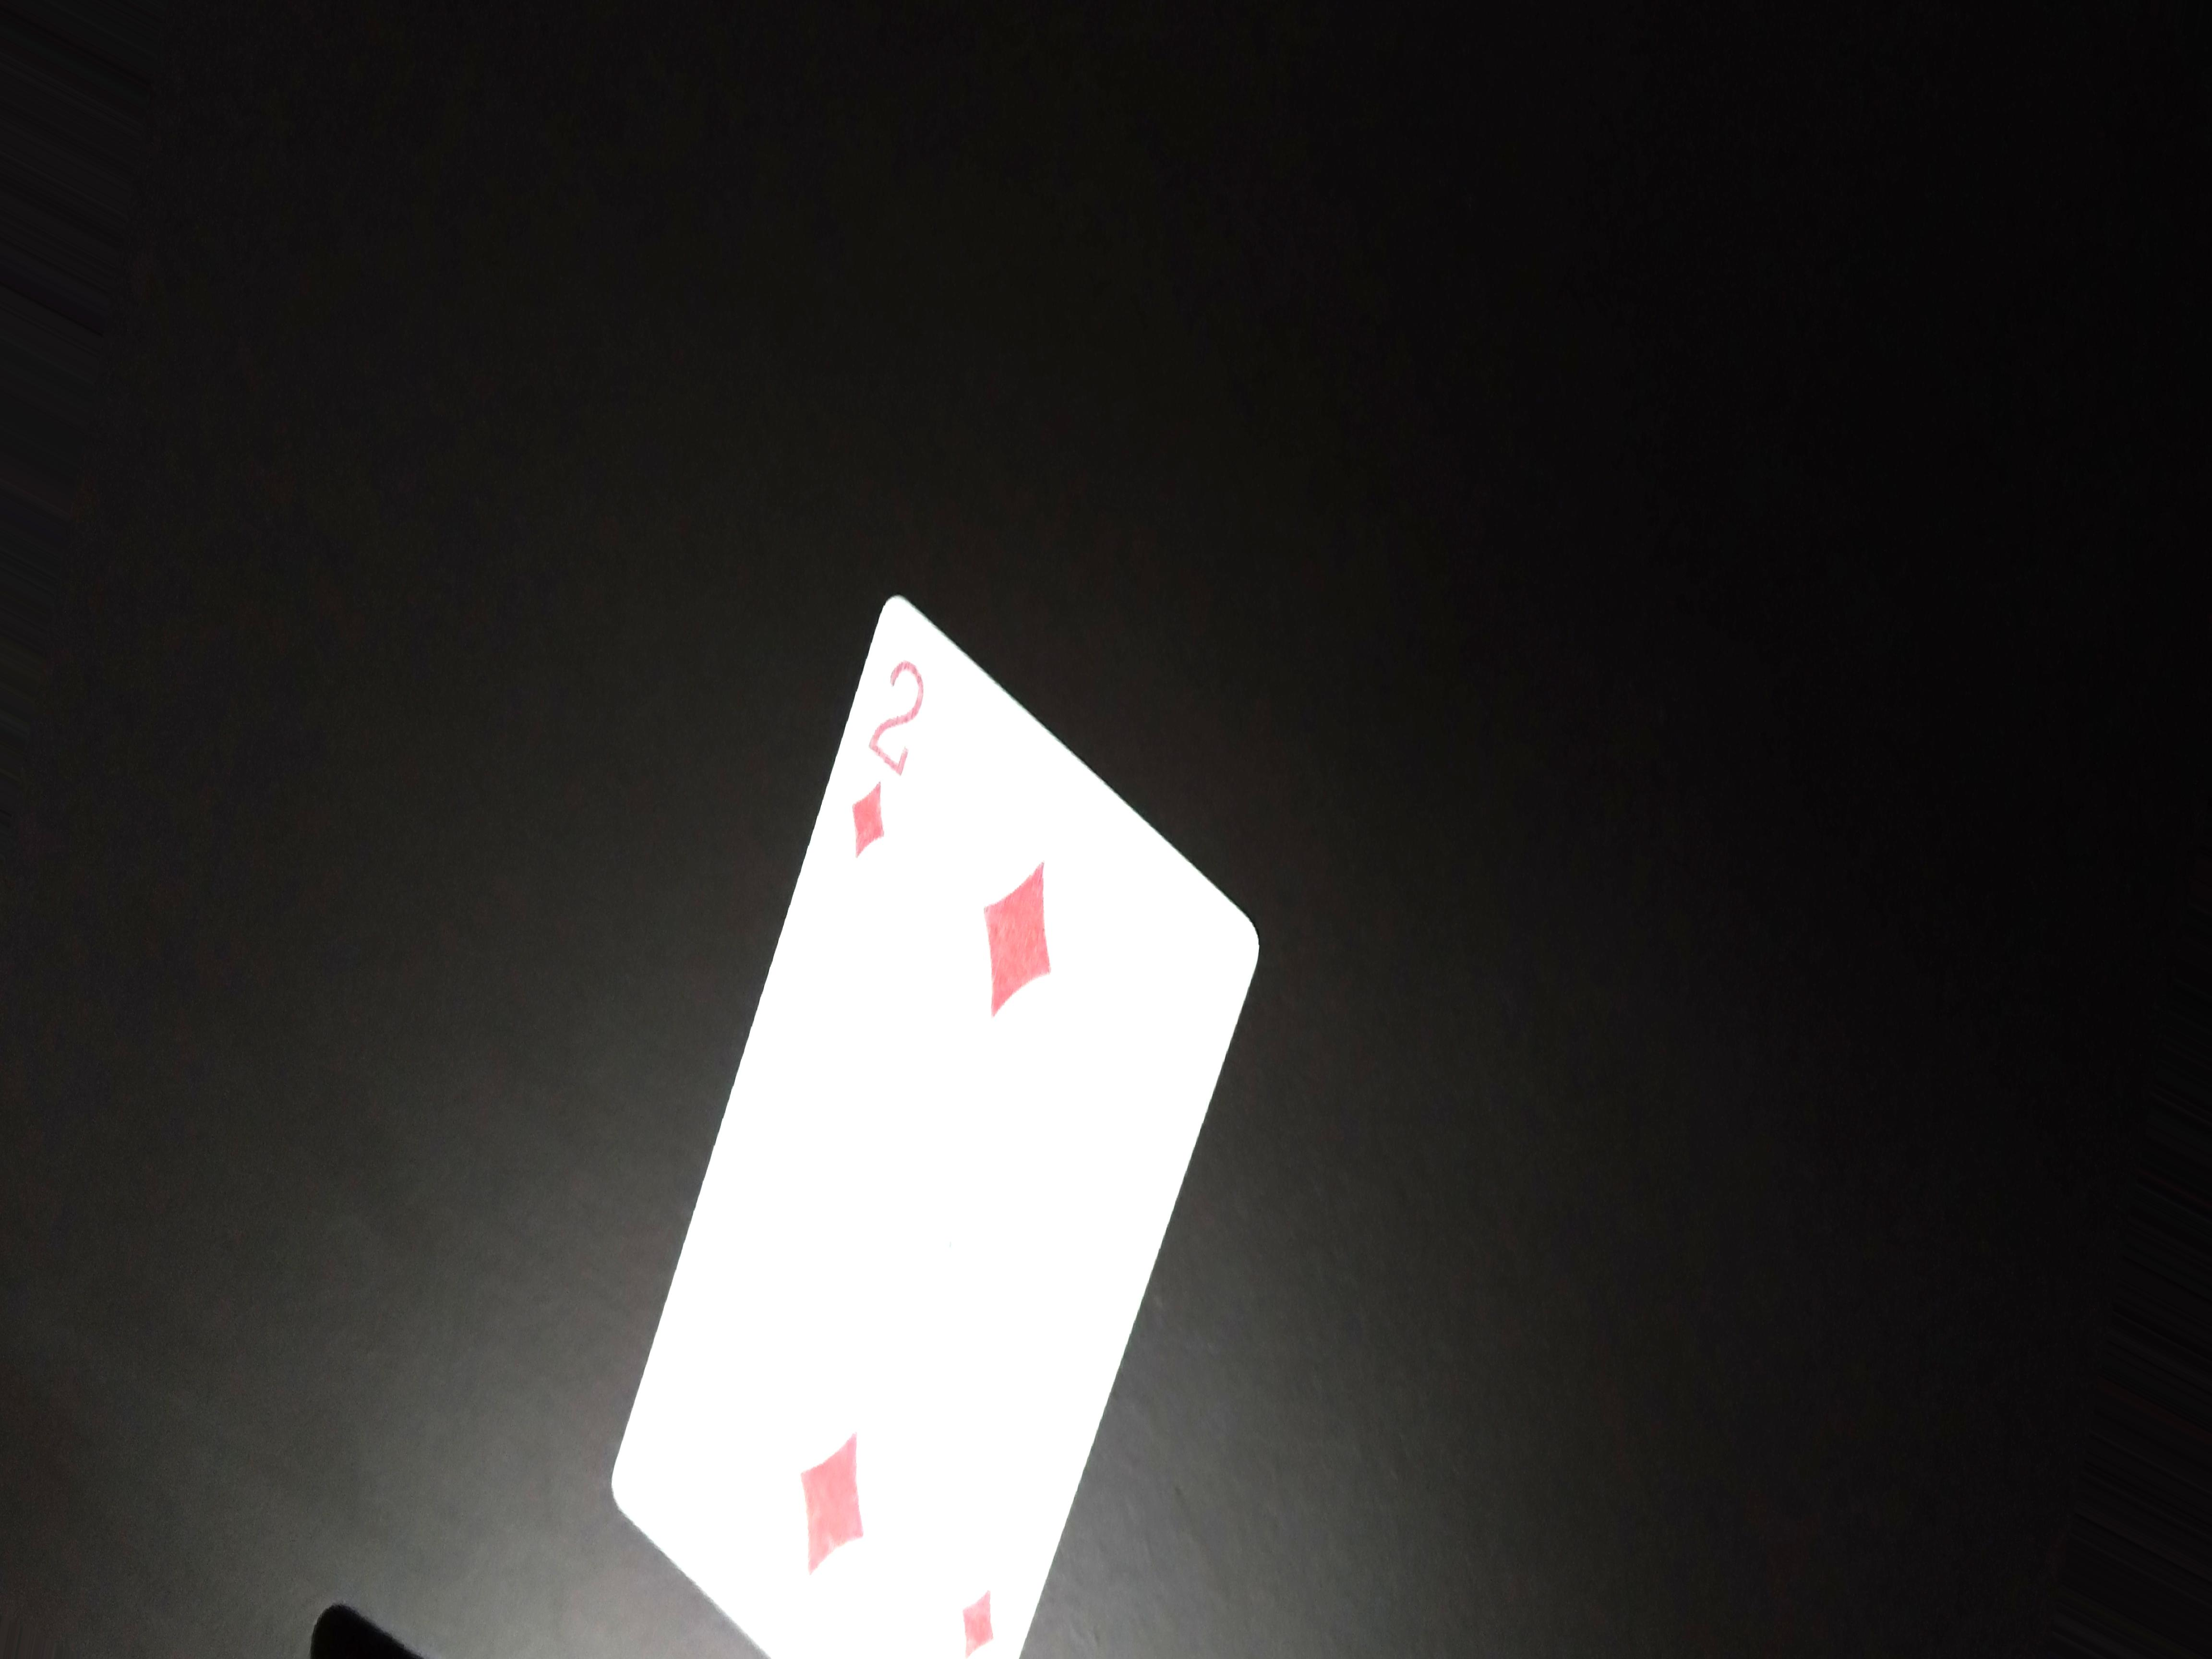2D: (826, 643, 941, 878)
